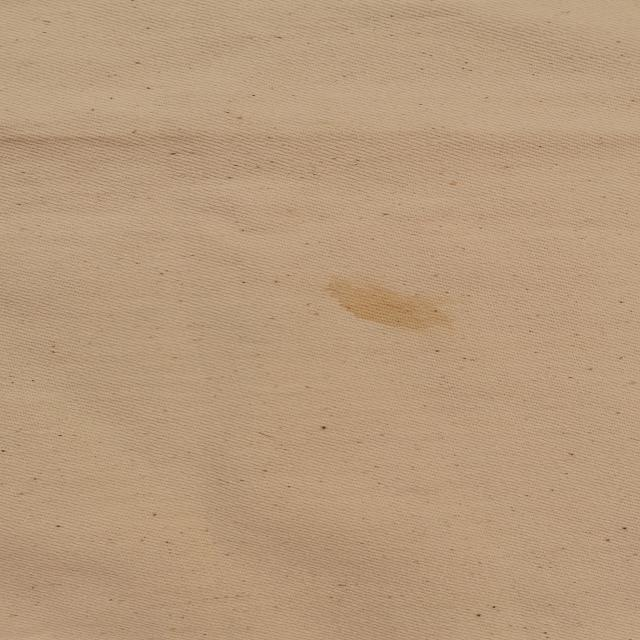taaaches: (325, 267, 465, 338)
